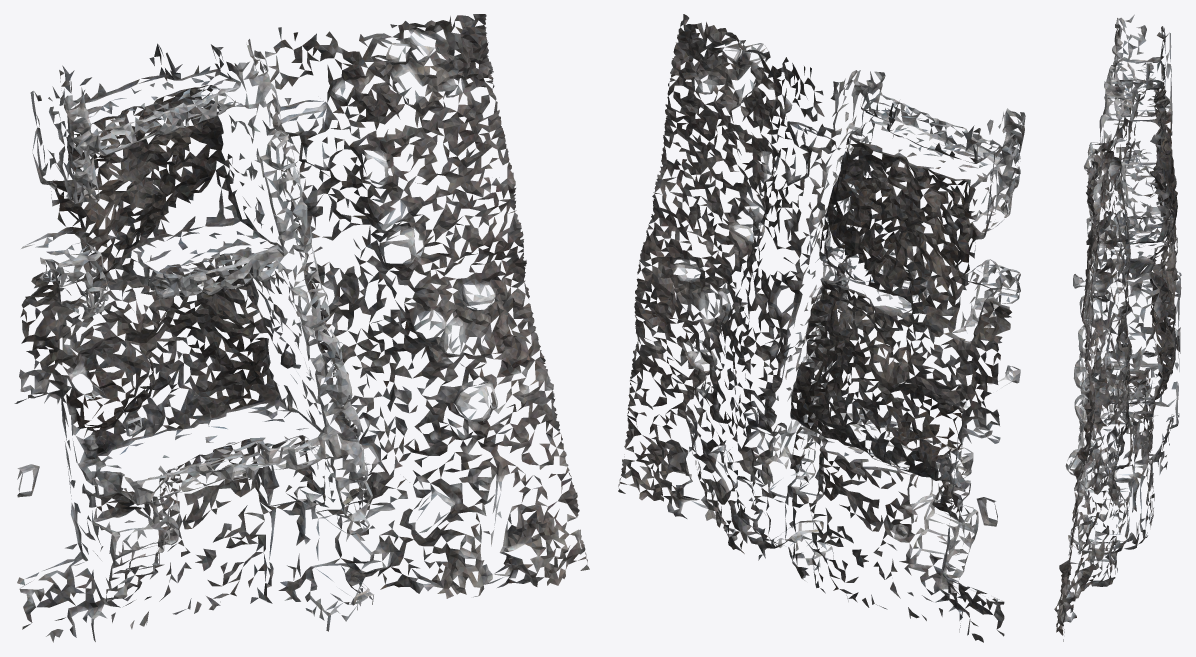
The picture shows the model from 3 angles, left to right: view 1: azimuth 30°, elevation 25°; view 2: azimuth 150°, elevation 25°; view 3: azimuth 270°, elevation 25°; orthographic projection. The views are drawn at different scales.
Size of the model in its own units: 12.63 by 13.98 by 3.59.
1 material, 1 textured.
